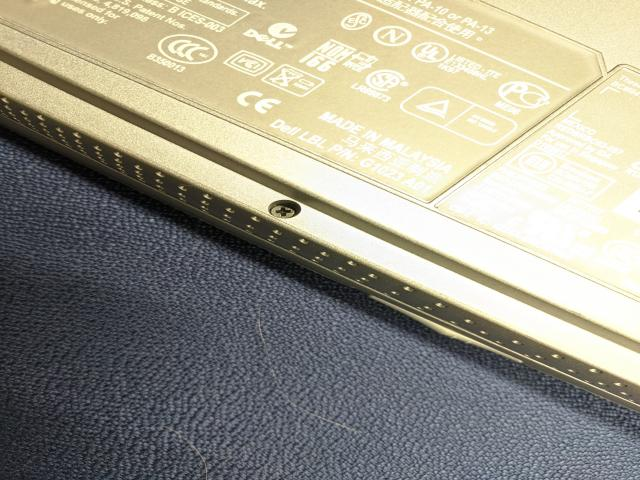CRS: (270, 202, 301, 220)
